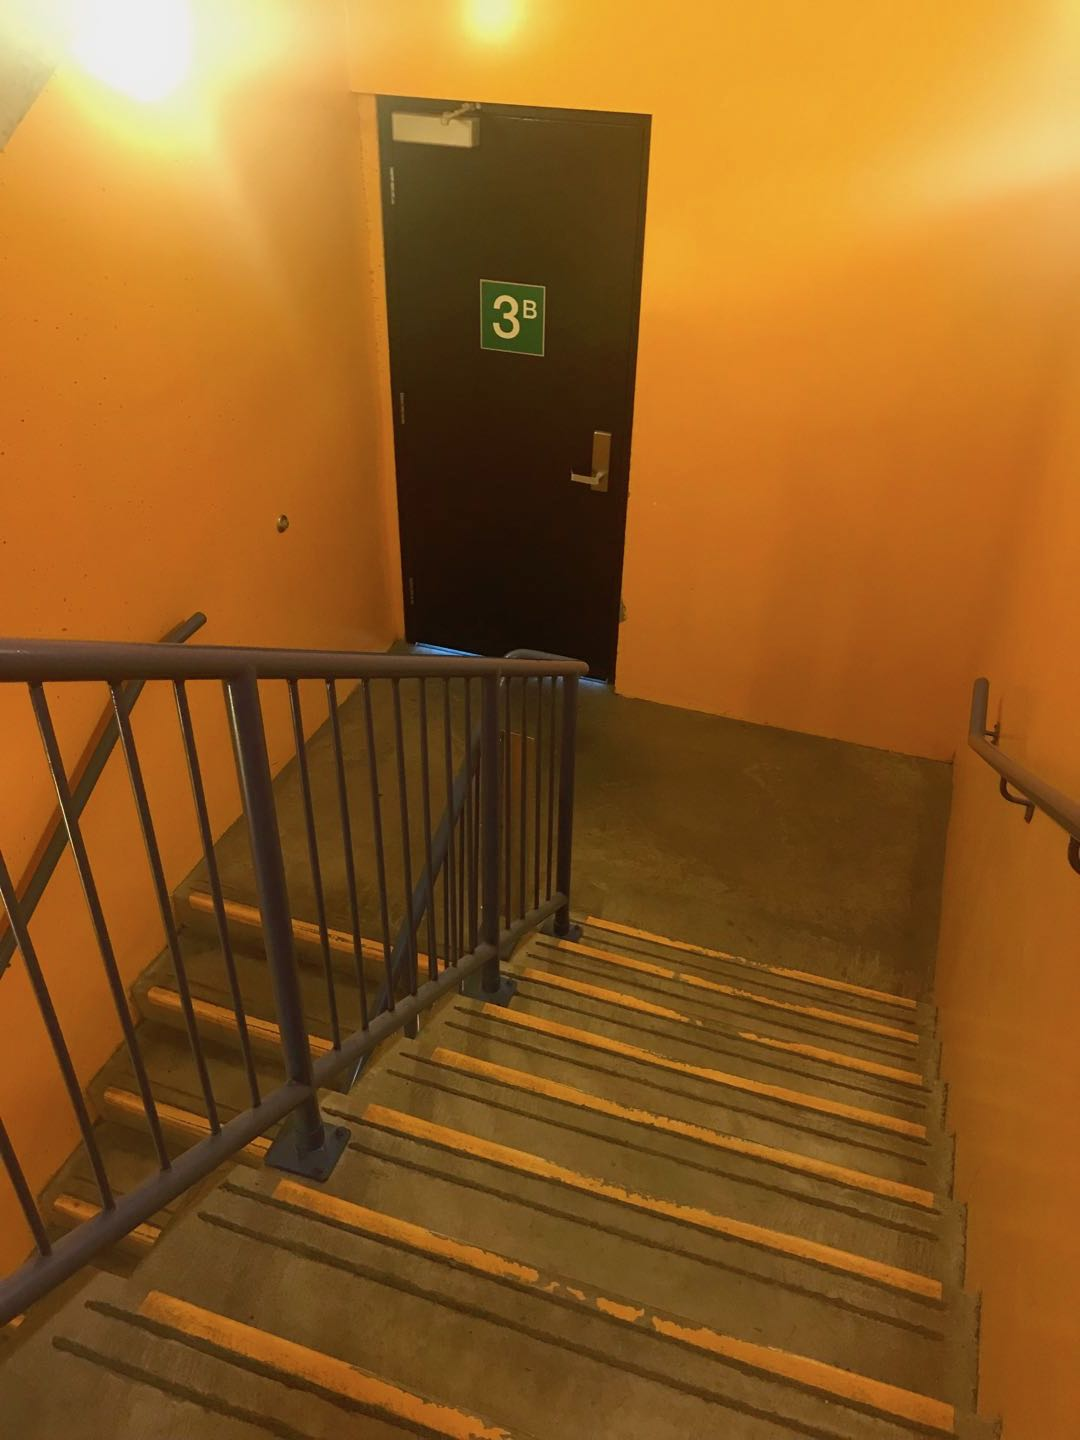door: (379, 94, 659, 686)
sign: (480, 281, 546, 358)
stair: (5, 908, 996, 1435)
